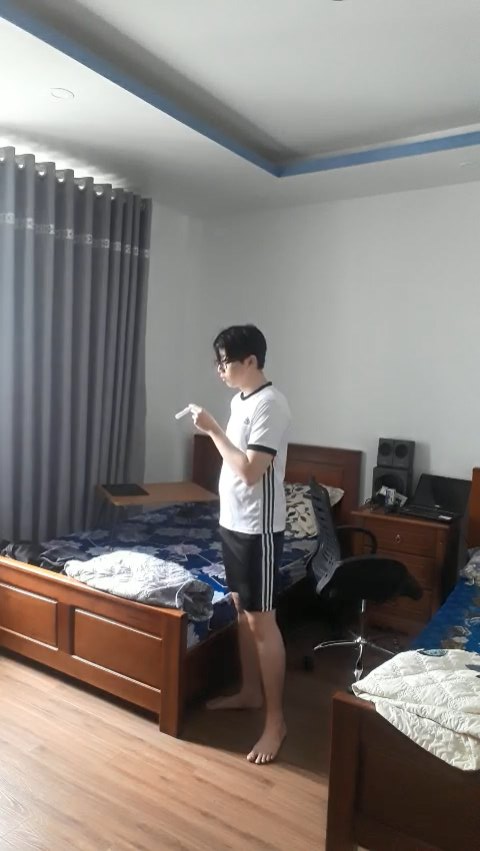cigarette: (175, 405, 191, 420)
person: (183, 312, 308, 773)
